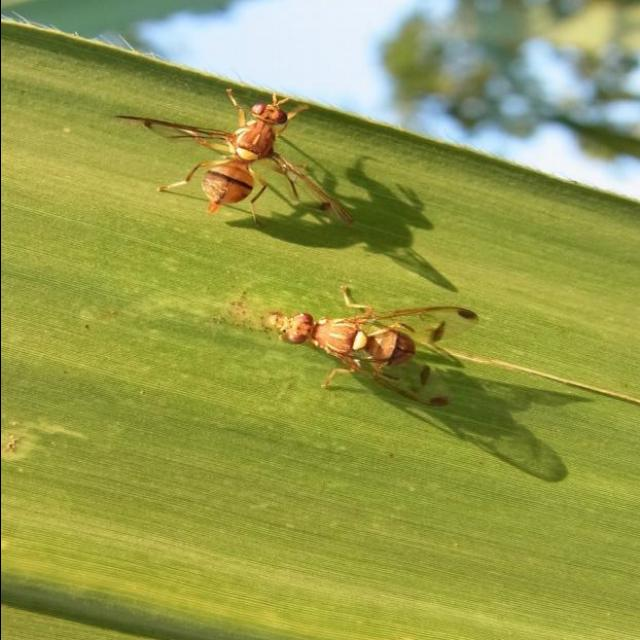Fruit fly: (107, 81, 363, 233), (263, 282, 494, 416)
